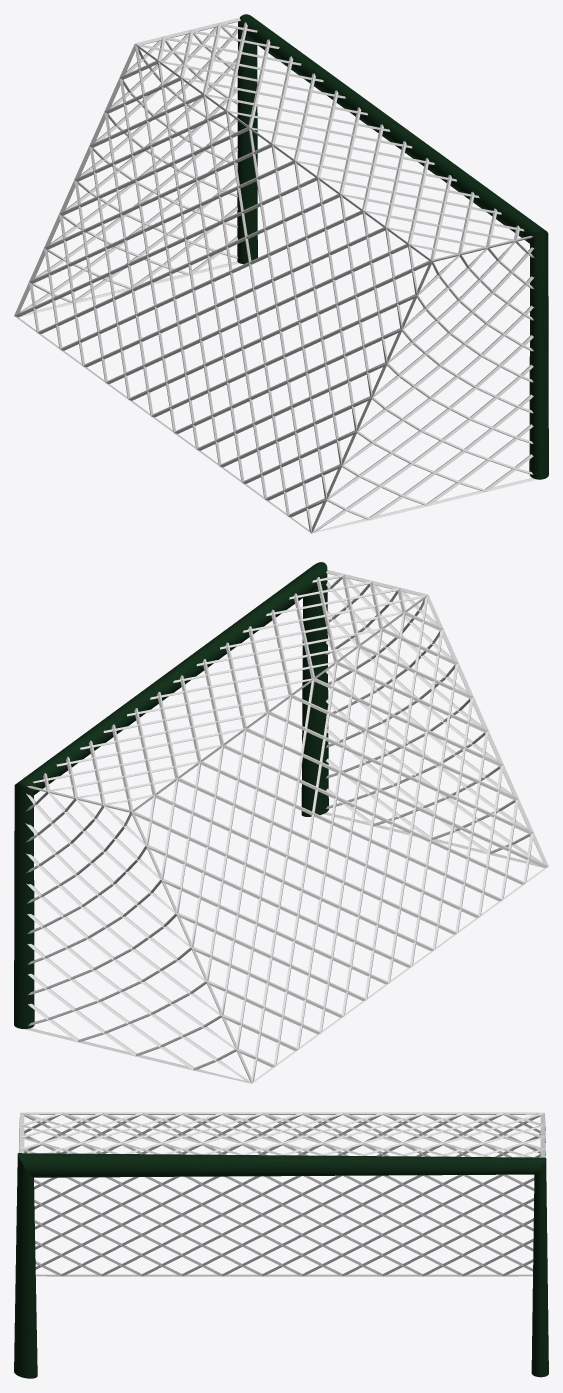
The model's file is cage.fbx.
3 views of the same model, one above another, from view 1: azimuth 30°, elevation 25°; view 2: azimuth 150°, elevation 25°; view 3: azimuth 270°, elevation 25° (orthographic). The views are drawn at different scales.
Visible parts, largest first — view 1: Cube.003, Cube.004; view 2: Cube.003, Cube.004; view 3: Cube.003, Cube.004.
Boxes of the visible parts, x1,y1,x2,y2 form: Cube.003: [14, 17, 537, 533]; Cube.004: [237, 14, 548, 479]; Cube.003: [23, 570, 548, 1083]; Cube.004: [14, 562, 328, 1028]; Cube.003: [19, 1112, 545, 1276]; Cube.004: [14, 1153, 548, 1378].
Size of the model in its own units: 192 by 190 by 419.
Materials: 2 (1 with a texture image).
